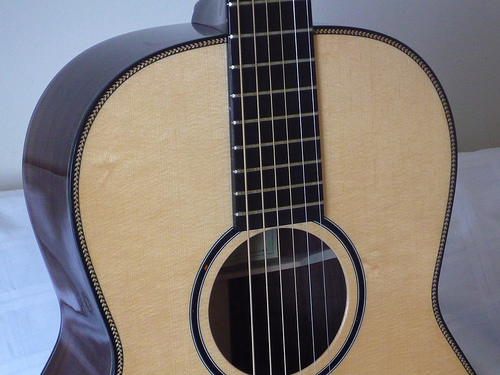guitar: (15, 1, 500, 375)
